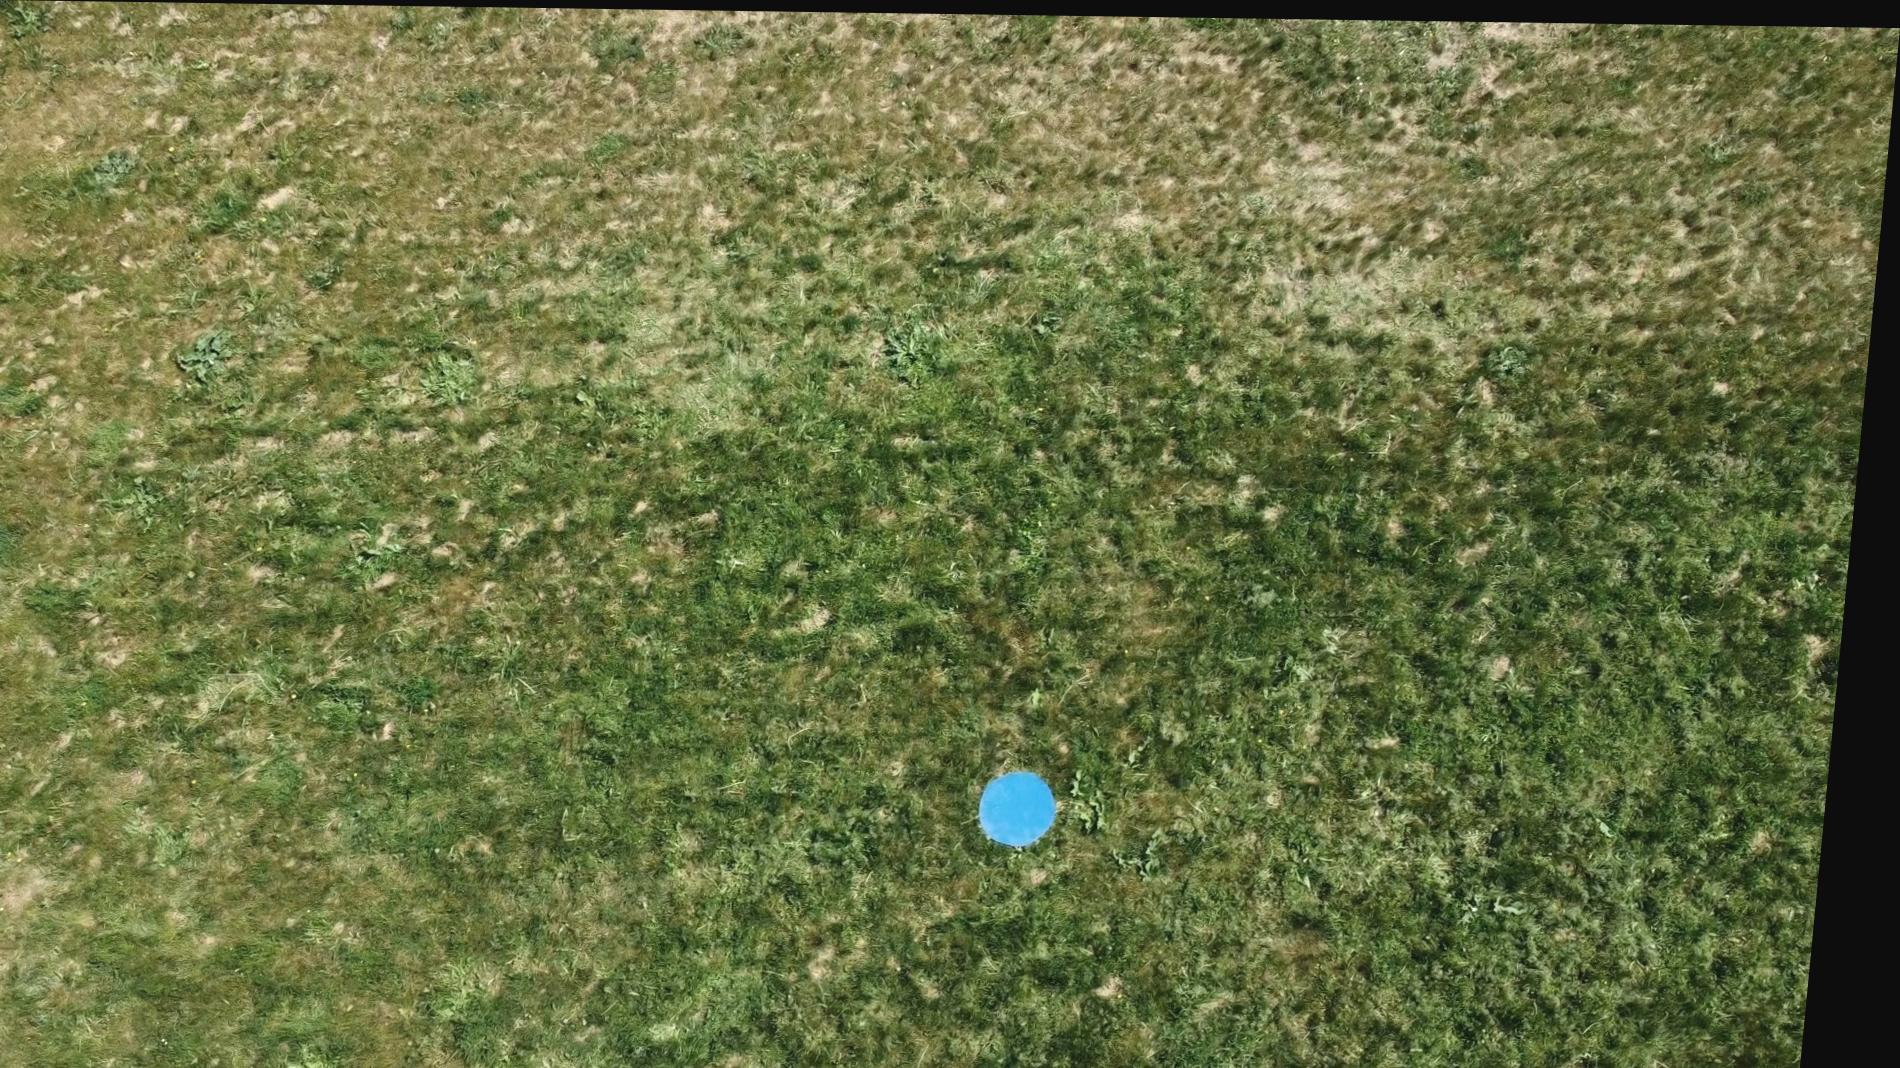Blue: (988, 765, 1079, 849)
